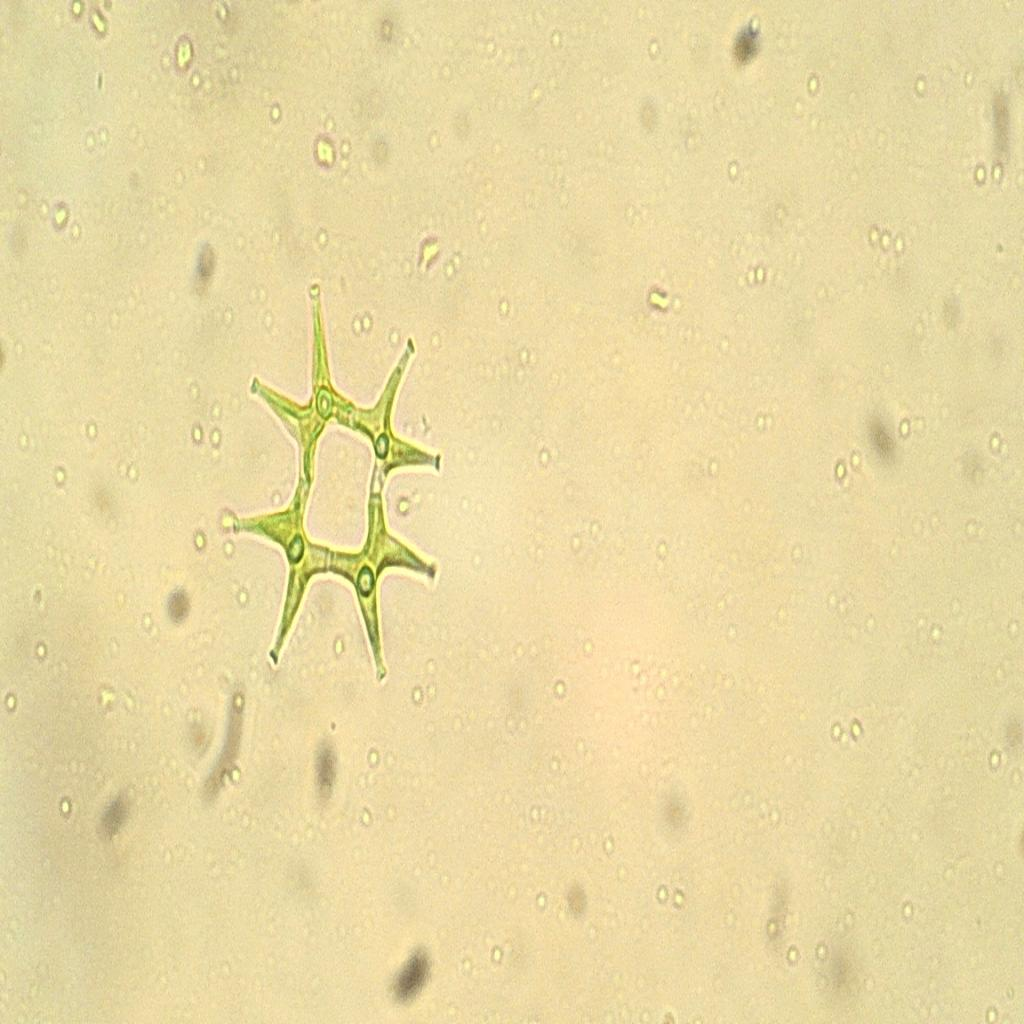Pediastrum_10: (212, 276, 466, 714)
